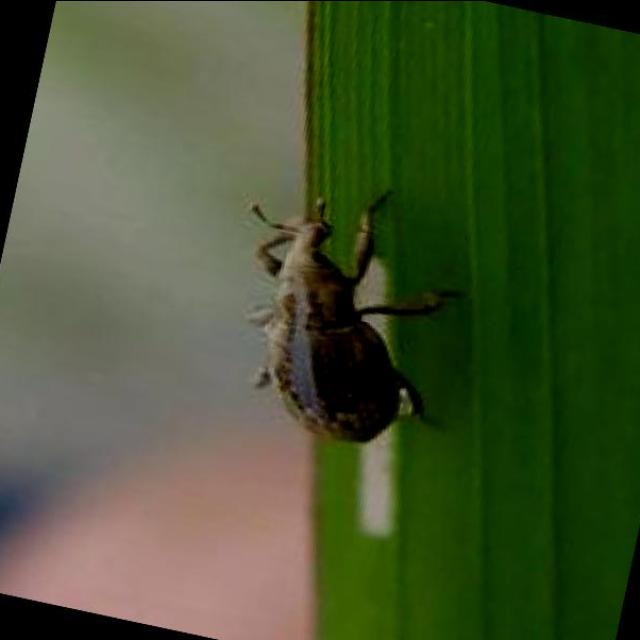ricebug: (250, 191, 459, 442)
